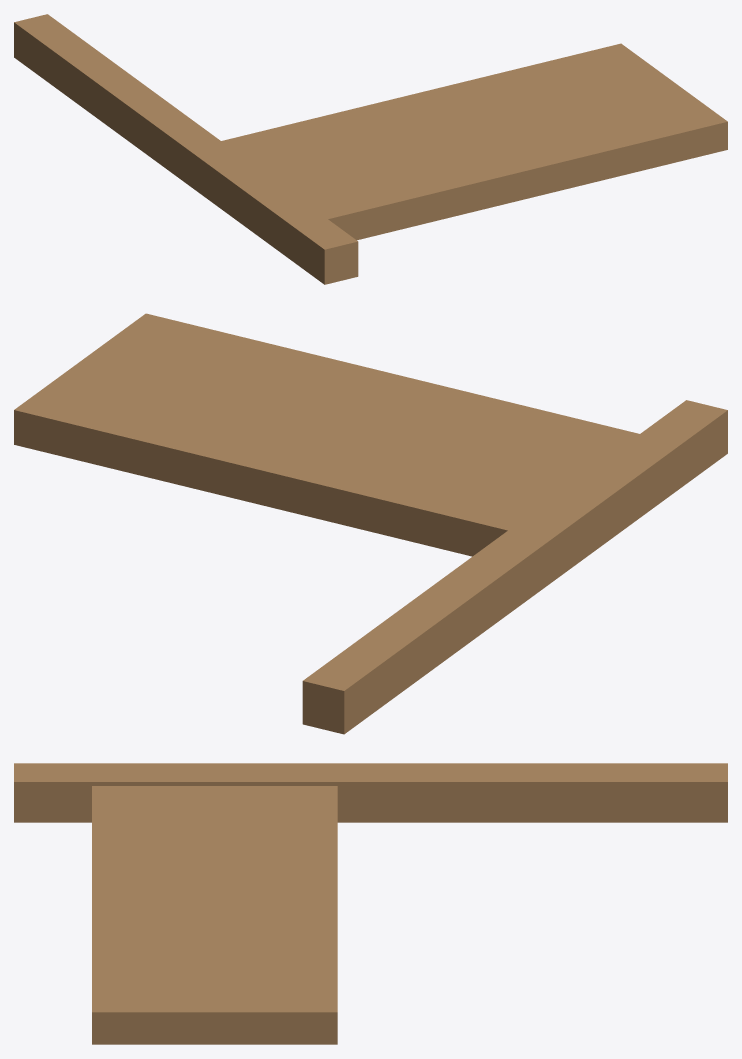
File: deprecated_repository_sign.glb
3 views of the same model, one above another, from view 1: azimuth 30°, elevation 25°; view 2: azimuth 150°, elevation 25°; view 3: azimuth 270°, elevation 25° (orthographic). The views are drawn at different scales.
Parts seen in each view (by area): view 1: sign_board, post; view 2: sign_board, post; view 3: sign_board, post.
Boxes of the visible parts, x1,y1,x2,y2 form: sign_board: (221, 43, 727, 240); post: (14, 14, 358, 284); sign_board: (14, 313, 639, 556); post: (302, 400, 727, 734); sign_board: (92, 786, 337, 1044); post: (14, 763, 727, 822).
Bounding box in the file's own units: 1.3 × 0.13 × 1.6.
